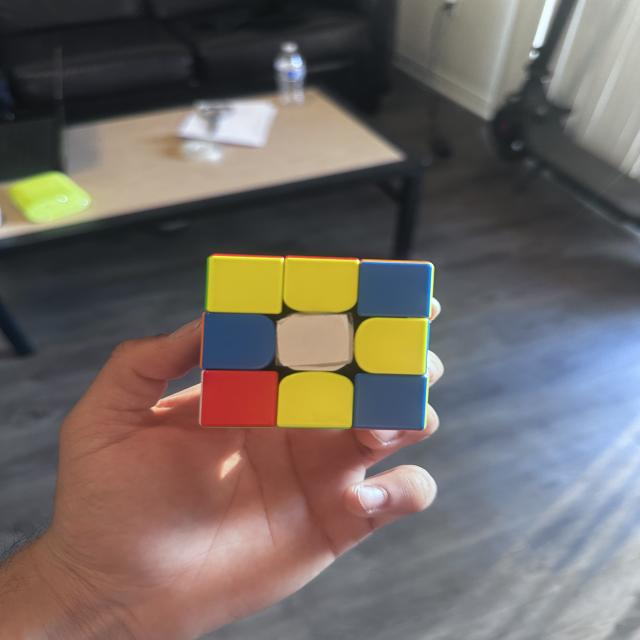sticker: (197, 367, 283, 431), (205, 254, 285, 317), (200, 310, 278, 373), (354, 260, 433, 322), (276, 370, 356, 431), (274, 311, 354, 372), (350, 372, 430, 432), (282, 256, 361, 316), (354, 316, 430, 377)
